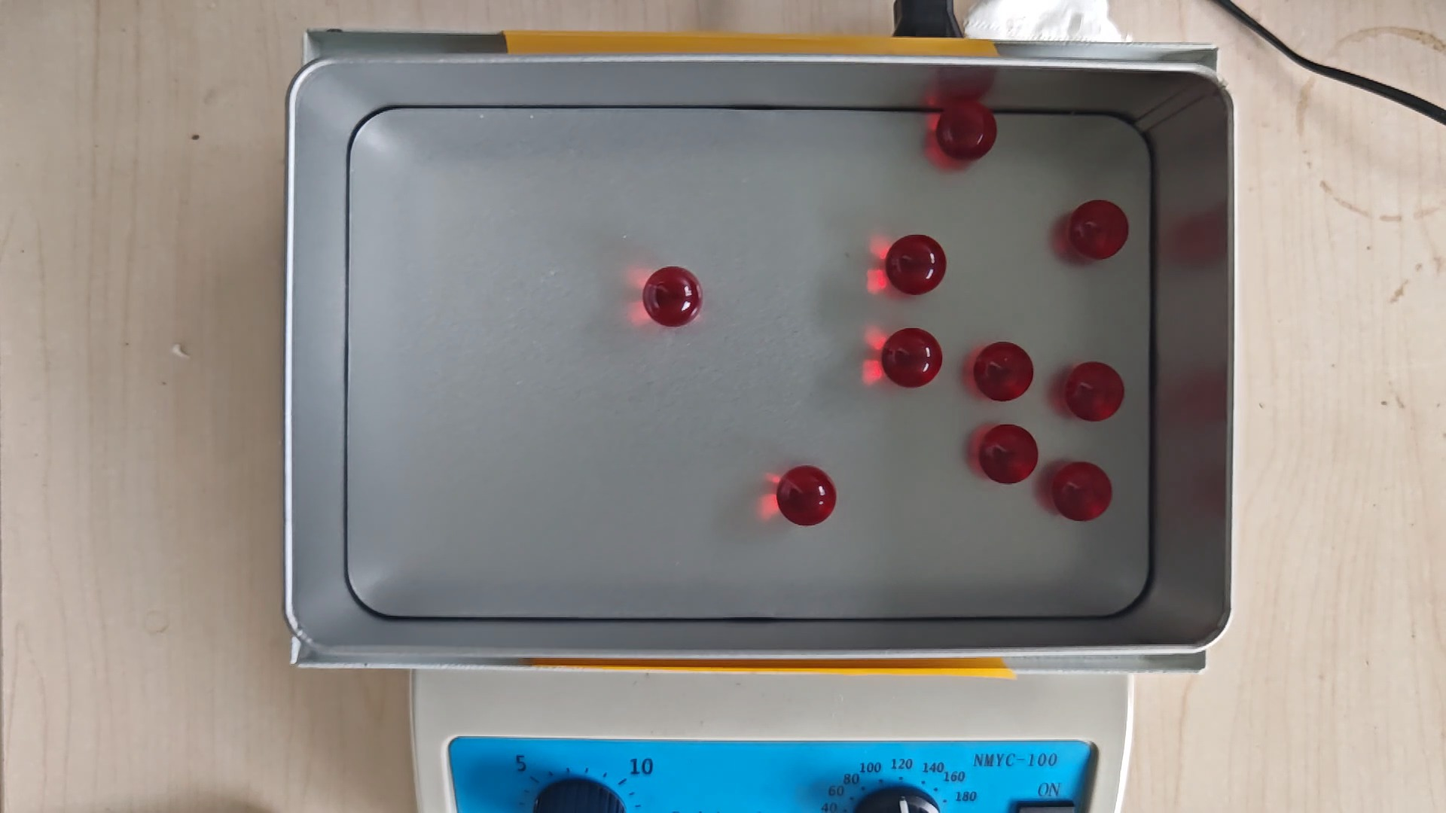ball: (1051, 460, 1113, 524), (886, 233, 947, 296), (979, 422, 1039, 485), (882, 326, 942, 389), (1065, 361, 1125, 423), (777, 465, 837, 527), (1069, 199, 1129, 260), (974, 341, 1034, 402), (644, 265, 702, 327), (937, 101, 996, 161)
container: (346, 108, 1152, 619)
